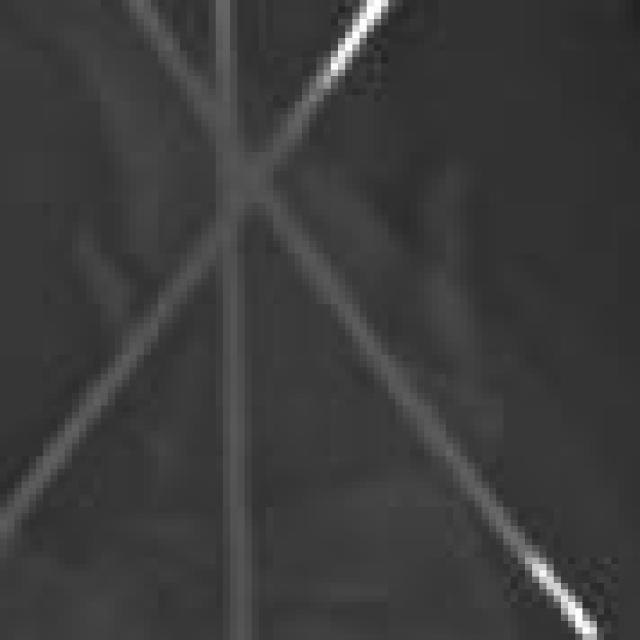fracture: (2, 4, 640, 640)
